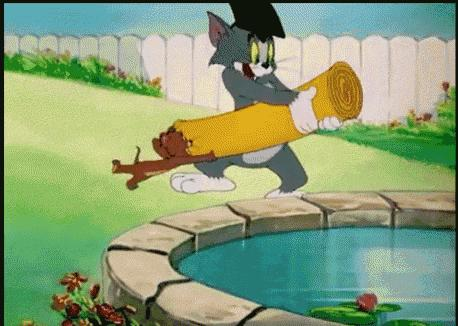jerry: (111, 126, 218, 191)
